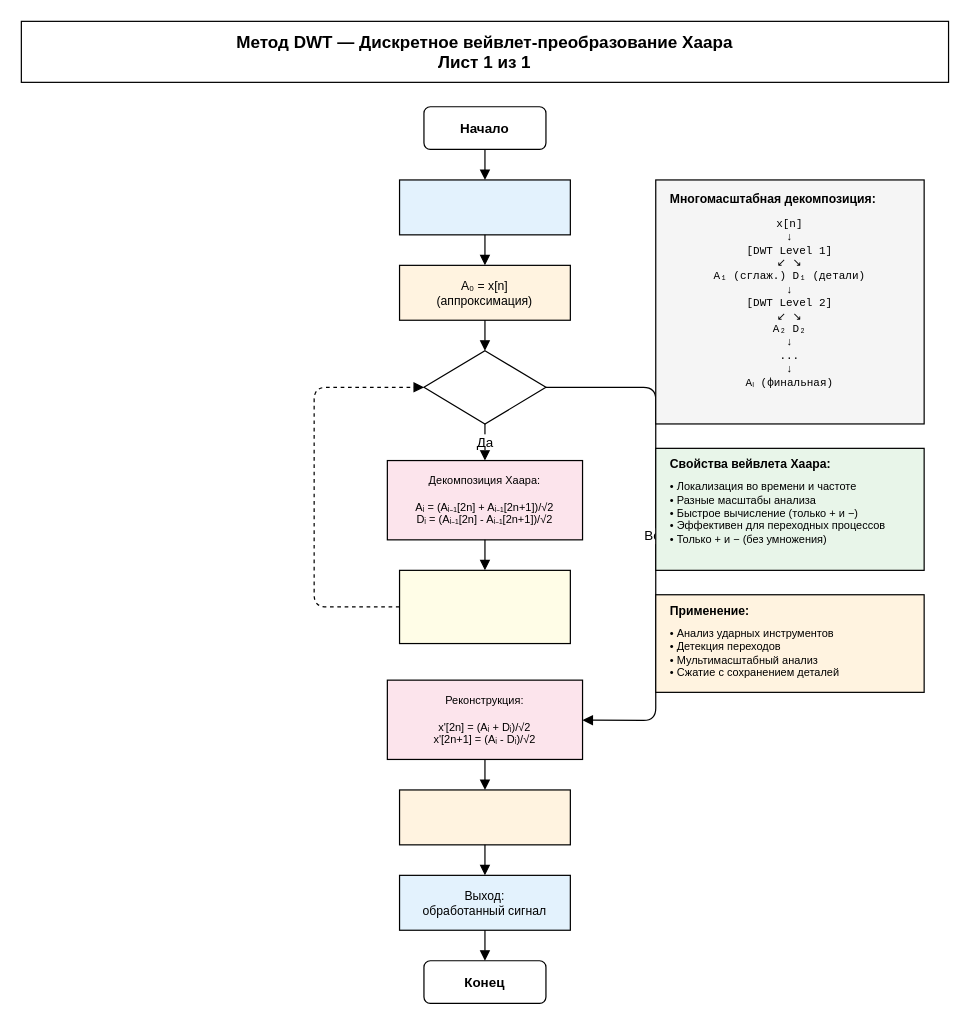
Some shapes in this 970 by 1025 pixel diagram are drawn without their labels. Each missing label, with the box of its shape:
i = 1..L?: (423, 350, 546, 424)
Восстановление сигнала (OLA): (398, 789, 570, 845)
Вход: аудиосигнал x[n], число уровней L: (398, 179, 570, 235)
Отбор коэффициентов: • energy (по энергии) • lowpass (НЧ) • none: (398, 569, 570, 644)
